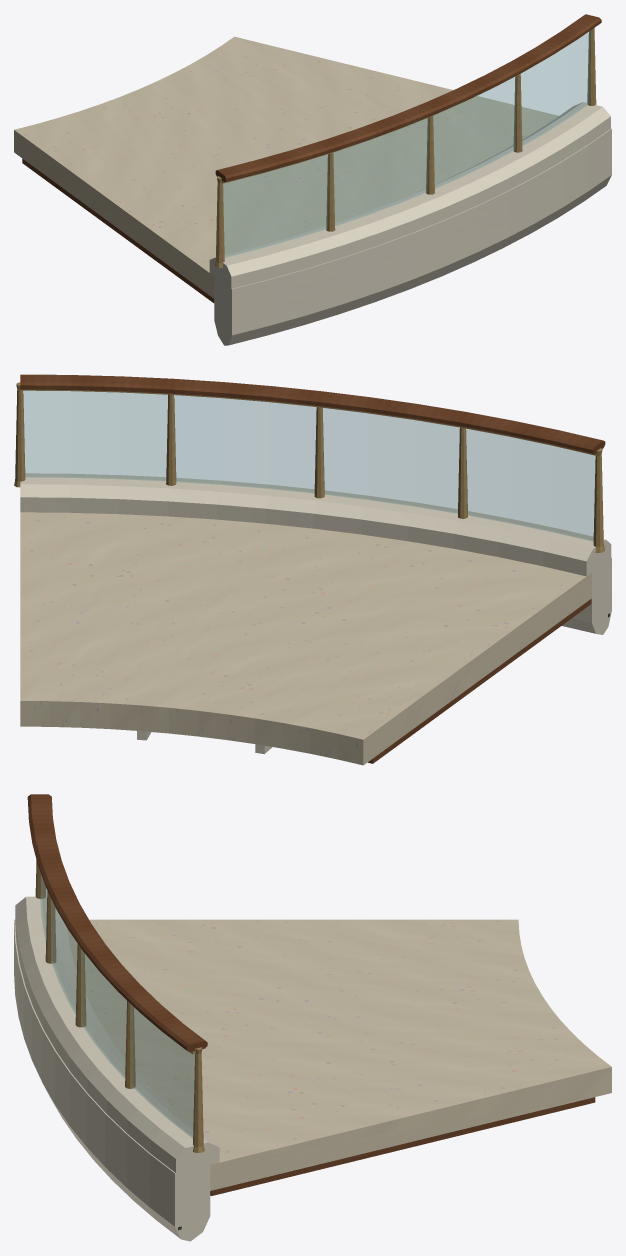
Rendered from AST-ARC-001.glb.
The picture shows the model from 3 angles, top to bottom: view 1: azimuth 30°, elevation 25°; view 2: azimuth 150°, elevation 25°; view 3: azimuth 270°, elevation 25°; orthographic projection. The views are drawn at different scales.
Parts seen in each view (by area): view 1: ARC_Floor, ARC_ProfiledFascia, ARC_GuardPlinth, ARC_Glass_00, ARC_Glass_01, ARC_ContinuousHandrail, ARC_Glass_02, ARC_Glass_03, ARC_RecessedSoffit, ARC_Post_00, ARC_Post_01, ARC_Post_02 (+2 smaller); view 2: ARC_Floor, ARC_GuardPlinth, ARC_Glass_03, ARC_Glass_02, ARC_Glass_01, ARC_Glass_00, ARC_ContinuousHandrail, ARC_ProfiledFascia, ARC_RecessedSoffit, ARC_HandrailMetalSeat, ARC_Post_00, ARC_Post_04 (+3 smaller); view 3: ARC_Floor, ARC_GuardPlinth, ARC_ProfiledFascia, ARC_ContinuousHandrail, ARC_Glass_03, ARC_Glass_02, ARC_RecessedSoffit, ARC_Glass_01, ARC_Post_04, ARC_Post_03, ARC_Post_02, ARC_Post_01.
Part boxes in pixels (<box>): ARC_Floor: <box>14,36,558,298</box>; ARC_ProfiledFascia: <box>214,128,611,345</box>; ARC_GuardPlinth: <box>209,102,610,288</box>; ARC_Glass_00: <box>223,154,328,257</box>; ARC_Glass_01: <box>333,117,428,225</box>; ARC_ContinuousHandrail: <box>215,14,601,182</box>; ARC_Glass_02: <box>433,76,516,188</box>; ARC_Glass_03: <box>521,30,590,145</box>; ARC_RecessedSoffit: <box>22,159,214,302</box>; ARC_Post_00: <box>215,176,224,267</box>; ARC_Post_01: <box>326,152,335,231</box>; ARC_Post_02: <box>426,116,434,194</box>; ARC_Floor: <box>20,512,591,765</box>; ARC_GuardPlinth: <box>20,473,611,576</box>; ARC_Glass_03: <box>24,391,167,480</box>; ARC_Glass_02: <box>175,395,316,493</box>; ARC_Glass_01: <box>323,408,459,513</box>; ARC_Glass_00: <box>466,429,595,541</box>; ARC_ContinuousHandrail: <box>20,374,605,454</box>; ARC_ProfiledFascia: <box>562,557,611,634</box>; ARC_RecessedSoffit: <box>368,599,591,763</box>; ARC_HandrailMetalSeat: <box>20,389,596,455</box>; ARC_Post_00: <box>593,448,604,552</box>; ARC_Post_04: <box>14,382,25,487</box>; ARC_Floor: <box>67,919,611,1190</box>; ARC_GuardPlinth: <box>15,896,219,1172</box>; ARC_ProfiledFascia: <box>14,919,210,1241</box>; ARC_ContinuousHandrail: <box>27,794,207,1052</box>; ARC_Glass_03: <box>131,1005,194,1138</box>; ARC_Glass_02: <box>81,949,126,1078</box>; ARC_RecessedSoffit: <box>210,1097,595,1195</box>; ARC_Glass_01: <box>51,899,77,1014</box>; ARC_Post_04: <box>193,1047,204,1152</box>; ARC_Post_03: <box>125,1001,135,1088</box>; ARC_Post_02: <box>75,944,86,1027</box>; ARC_Post_01: <box>45,890,56,963</box>.
Bounding box in the file's own units: 5.05 × 1.85 × 4.98.
Materials: 6 (5 with a texture image).
